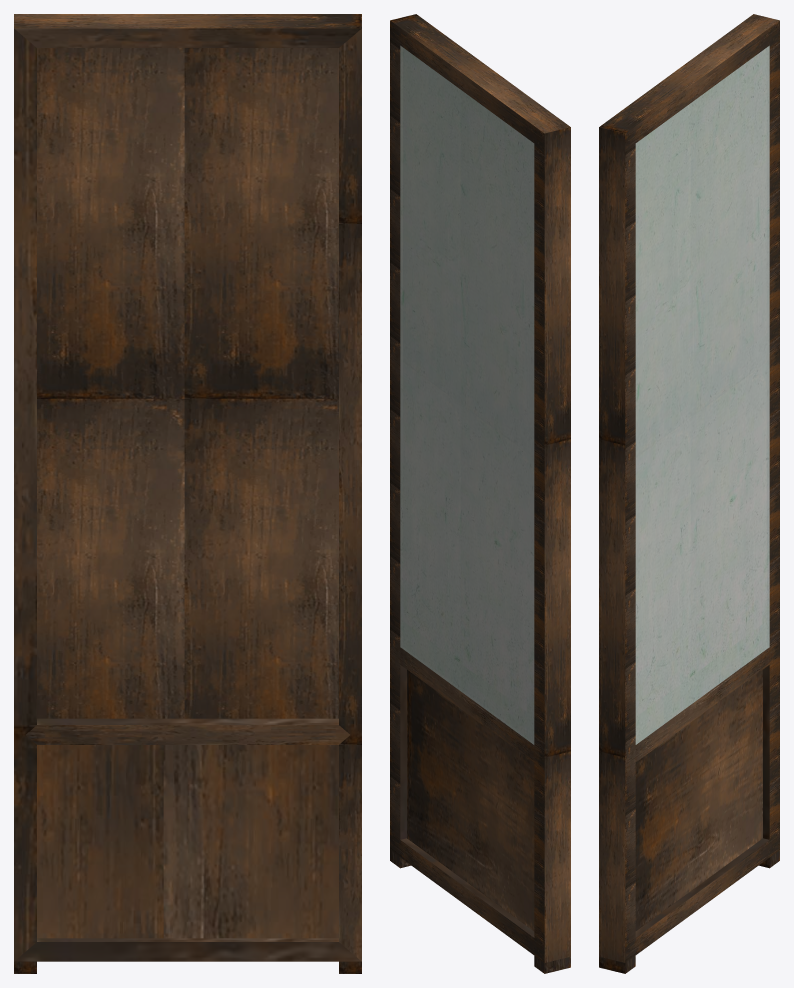
The model's file is 창호지.FBX.
3 renders of one model, left to right at view 1: azimuth 30°, elevation 25°; view 2: azimuth 150°, elevation 25°; view 3: azimuth 270°, elevation 25°, orthographic. The views are drawn at different scales.
Parts seen in each view (by area): view 1: 창호지; view 2: 창호지; view 3: 창호지.
Part boxes in pixels (bbox=[...]): 창호지: bbox=[14, 14, 361, 973]; 창호지: bbox=[390, 14, 570, 973]; 창호지: bbox=[599, 14, 779, 973].
Bounding box in the file's own units: 21.6 × 70.8 × 13.81.
